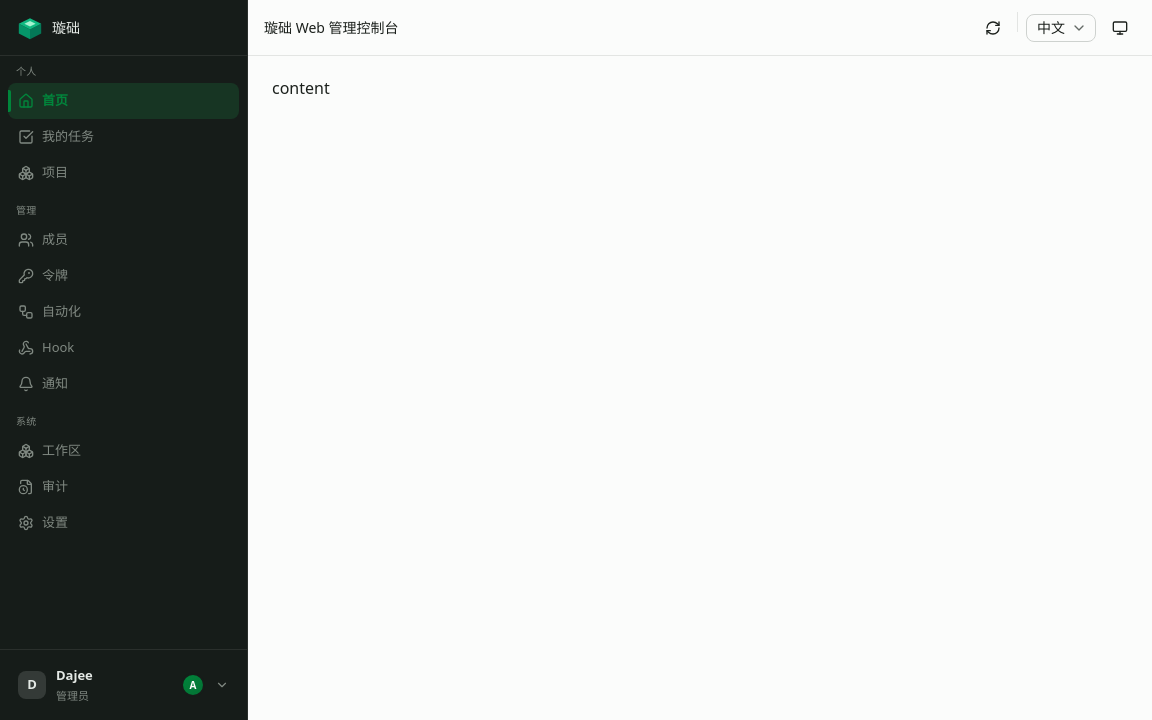
AppShell › renders sidebar identity block with name, handle, role, token type and workspace
The image size is (1152, 720).
expect the text "Dajee" is shown: met, box [56,666,93,684]
// 打开账户切换浮层，校验详情
Click the button "D Dajee 管理员 A": (124, 685) [10,660,237,710]
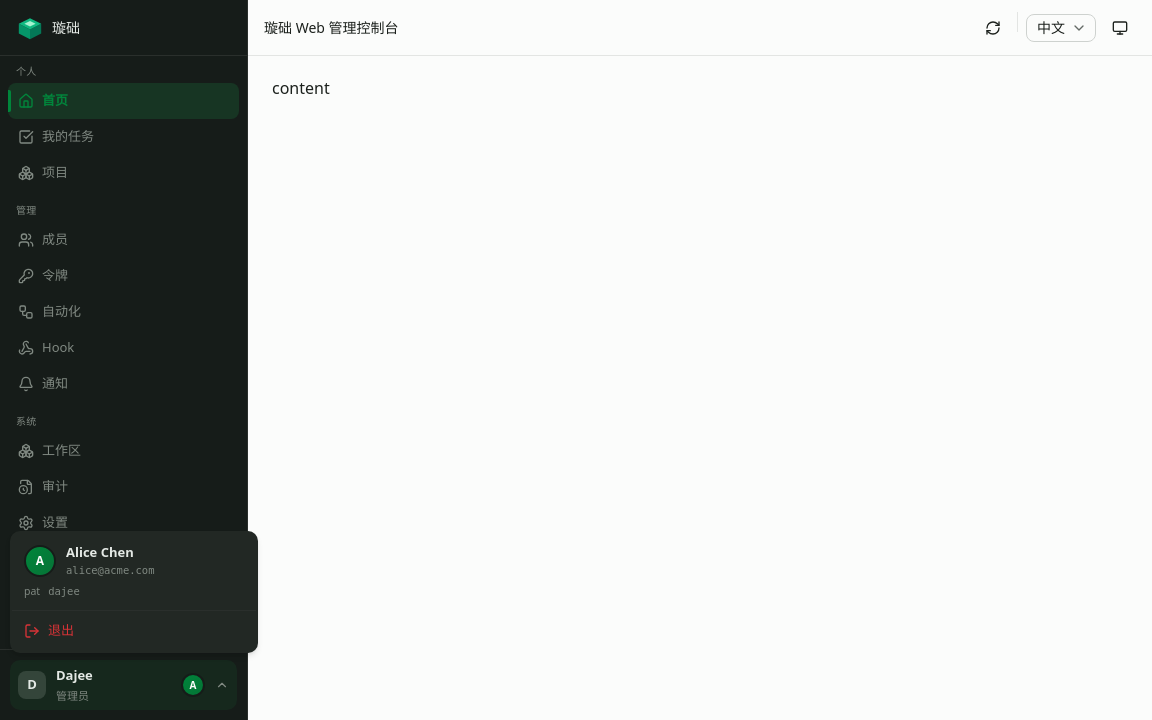
expect the text "Alice Chen" is shown: met, box [66,543,134,561]
expect the text "alice@acme.com" is shown: met, box [66,562,154,578]
expect the text "pat" is shown: met, box [24,584,40,600]
